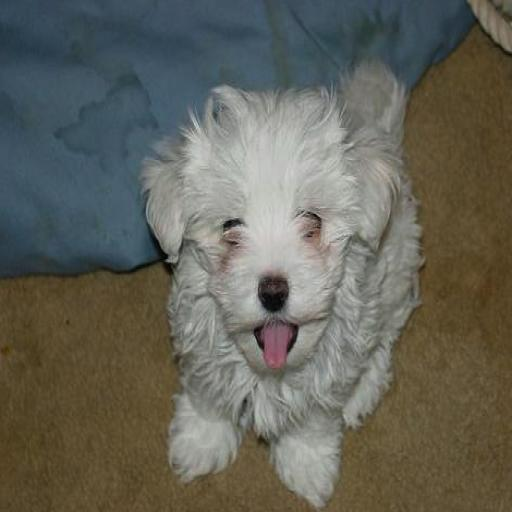dog_face: (149, 96, 410, 383)
